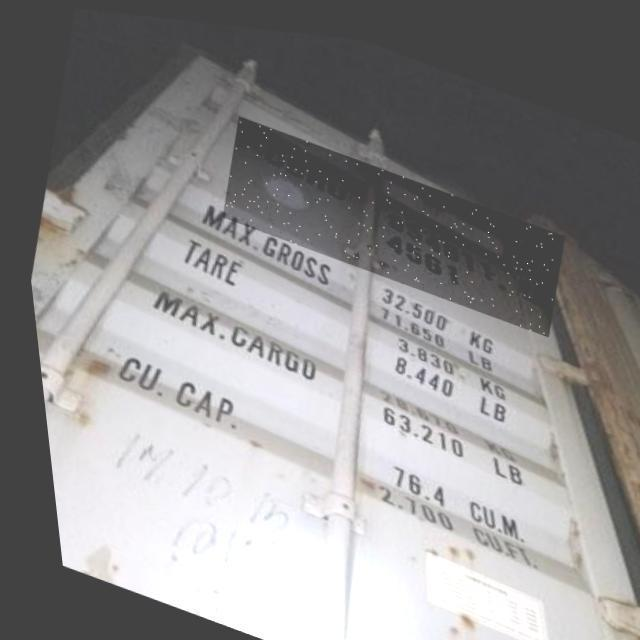container_number_h: (208, 108, 570, 327)
